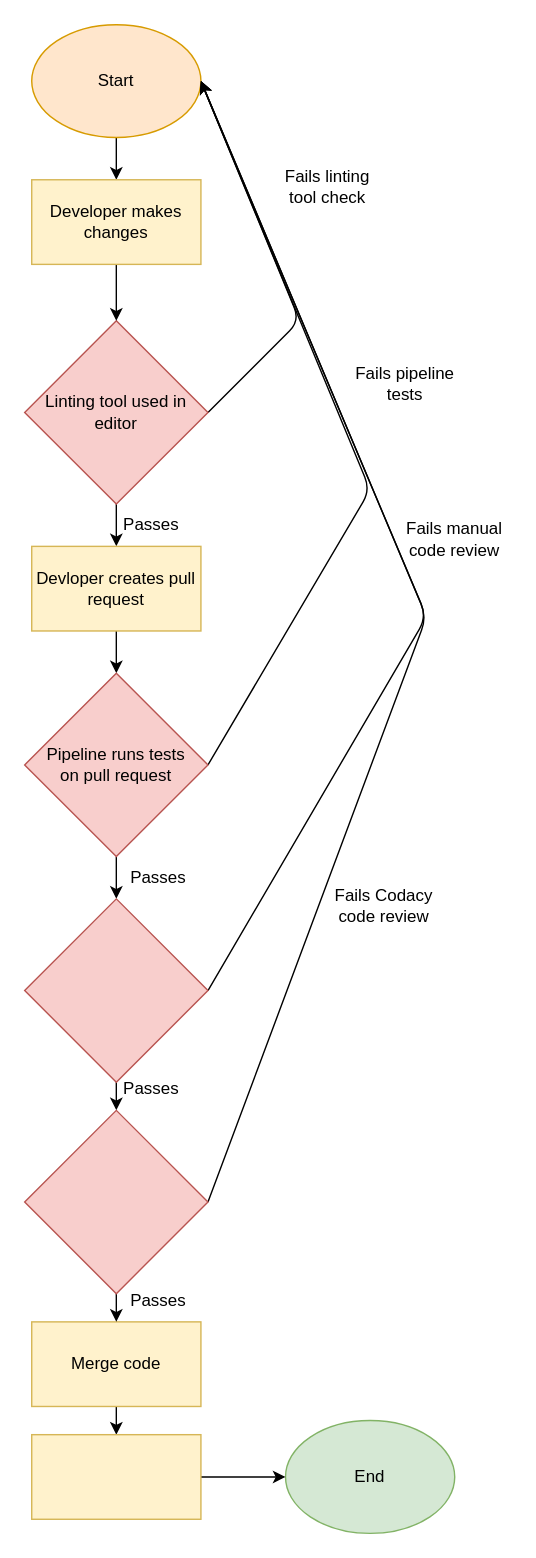
Image size: 536x1558. Some labels were removed from this diagram. The centre of each missing label's shape, as x and y in pixels:
"Auto documentation created with JSDocs" belongs at [115,1476].
"Codacy Code Review" belongs at [115,989].
"Manual code review" belongs at [115,1201].
